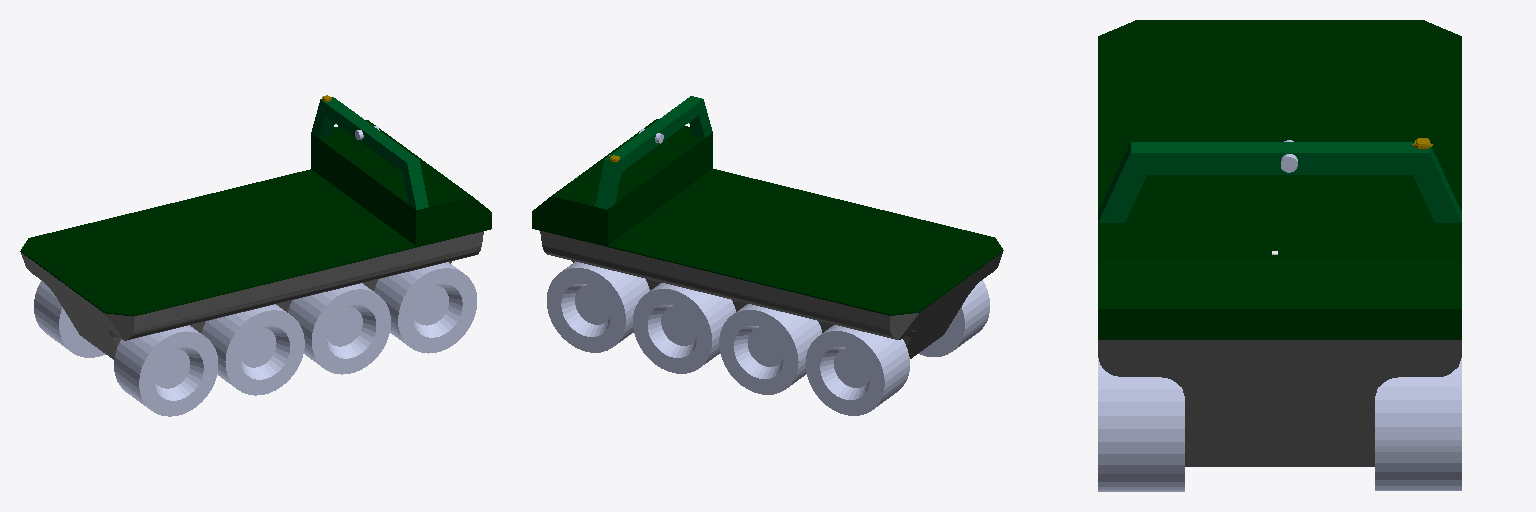
--- Render facts (derived) ---
Views: 3 orthographic renders of the robot side by side, from view 1: azimuth 30°, elevation 25°; view 2: azimuth 150°, elevation 25°; view 3: azimuth 270°, elevation 25°.
Robot: argo — 16 links, 15 joints (10 continuous, 1 prismatic, 4 fixed); root link base_link_argo; default pose: all joints at 0.
Visible links, largest first — view 1: top, base_link_argo, W1, W4, W3, W5, brdge, W8; view 2: top, base_link_argo, W8, W7, W6, W2, brdge, W1; view 3: top, base_link_argo, brdge, W3, W6.
Link boxes in pixels (x1,y1,x2,y2): top: [20, 120, 491, 316]; base_link_argo: [21, 231, 483, 359]; W1: [114, 325, 217, 416]; W4: [202, 304, 304, 395]; W3: [374, 262, 476, 353]; W5: [288, 283, 390, 374]; brdge: [311, 97, 428, 209]; W8: [34, 280, 105, 357]; top: [532, 119, 1003, 315]; base_link_argo: [540, 231, 1002, 358]; W8: [805, 325, 909, 415]; W7: [719, 304, 821, 394]; W6: [547, 261, 649, 352]; W2: [633, 283, 735, 373]; brdge: [595, 96, 712, 209]; W1: [918, 280, 989, 356]; top: [1098, 20, 1461, 339]; base_link_argo: [1098, 340, 1461, 466]; brdge: [1098, 142, 1461, 222]; W3: [1098, 358, 1184, 491]; W6: [1375, 358, 1461, 490].
Size in the robot's own frame: 3.01 by 1.46 by 1.46 metres.
15 mesh visuals loaded from 16 distinct referenced files (15 binary STL); not drawn: 1 (reference not matched to a file when rendering).

URDF robot description (argo):
<?xml version="1.0" encoding="utf-8"?>
<!-- This URDF was automatically created by SolidWorks to URDF Exporter! Originally created by Stephen Brawner ([email redacted]) 
     Commit Version: 1.6.0-4-g7f85cfe  Build Version: 1.6.7995.38578
     For more information, please see http://wiki.ros.org/sw_urdf_exporter -->
<robot
  name="argo">
  <link
    name="base_link_argo">
    <inertial>
      <origin
        xyz="0.035819 -5.7525E-07 0.081279"
        rpy="0 0 0" />
      <mass
        value="300.7" />
      <inertia
        ixx="250.5"
        ixy="8.5043E-06"
        ixz="11.589"
        iyy="1155.2"
        iyz="-0.00043656"
        izz="1288.7" />
    </inertial>
    <visual>
      <origin
        xyz="0 0 0"
        rpy="0 0 0" />
      <geometry>
        <mesh
          filename="package://argo/meshes/base_link.STL" />
      </geometry>
      <material
        name="">
        <color
          rgba="0.37647 0.37647 0.37647 1" />
      </material>
    </visual>
    <collision>
      <origin
        xyz="0 0 0"
        rpy="0 0 0" />
      <geometry>
        <mesh
          filename="package://argo/meshes/base_link.STL" />
      </geometry>
    </collision>
  </link>
  
  <gazebo reference="base_link_argo"> <!-- reference to a existing "link" -->
  <material>Gazebo/DarkGrey</material>
  </gazebo>
  
  <link
    name="top">
    <inertial>
      <origin
        xyz="1.29447232620919 -0.108911094870915 1.85161801499112E-16"
        rpy="0 0 0" />
      <mass
        value="20.196" />
      <inertia
        ixx="49.6170529044795"
        ixy="5.49755382314613"
        ixz="1.58830630084734E-14"
        iyy="137.267140906939"
        iyz="7.00820882302427E-15"
        izz="91.7318023780847" />
    </inertial>
    <visual>
      <origin
        xyz="0 0 0"
        rpy="0 0 0" />
      <geometry>
        <mesh
          filename="package://argo/meshes/top.STL" />
      </geometry>
      <material
        name="">
        <color
          rgba="0 0.219607843137255 0.0274509803921569 1" />
      </material>
    </visual>
    <collision>
      <origin
        xyz="0 0 0"
        rpy="0 0 0" />
      <geometry>
        <mesh
          filename="package://argo/meshes/top.STL" />
      </geometry>
    </collision>
  </link>
  
<gazebo reference="top">  
  <visual>  
    <material>  
      <ambient>0.2941 0.3255 0.1255 1.0</ambient>  
      <diffuse>0.2941 0.3255 0.1255 1.0</diffuse>  
      <specular>0.2941 0.3255 0.1255 1.0</specular>  
      <emissive>0.0 0.0 0.0 0.0</emissive>  
    </material>  
  </visual>  
</gazebo>

  <joint
    name="base_top"
    type="fixed">
    <origin
      xyz="-0.28859 0 0.34908"
      rpy="-1.5708 0 0" />
    <parent
      link="base_link_argo" />
    <child
      link="top" />
    <axis
      xyz="0 0 0" />
  </joint>
  
  <link
    name="brdge">
    <inertial>
      <origin
        xyz="1.04033991226211E-15 0.0629989167766 0.0499999999999999"
        rpy="0 0 0" />
      <mass
        value="16.9737091947536" />
      <inertia
        ixx="0.120706668200046"
        ixy="-7.71055909114614E-17"
        ixz="-5.38752534732447E-16"
        iyy="3.43735102494903"
        iyz="-4.74356800980588E-17"
        izz="3.52976817782449" />
    </inertial>
    <visual>
      <origin
        xyz="0 0 0"
        rpy="0 0 0" />
      <geometry>
        <mesh
          filename="package://argo/meshes/brdge.STL" />
      </geometry>
      <material
        name="">
        <color
          rgba="0 0.372549019607843 0.164705882352941 1" />
      </material>
    </visual>
    <collision>
      <origin
        xyz="0 0 0"
        rpy="0 0 0" />
      <geometry>
        <mesh
          filename="package://argo/meshes/brdge.STL" />
      </geometry>
    </collision>
  </link>
  
  <gazebo reference="brdge">  
  <visual>  
    <material>  
      <ambient>0.2941 0.3255 0.1255 1.0</ambient>  
      <diffuse>0.2941 0.3255 0.1255 1.0</diffuse>  
      <specular>0.2941 0.3255 0.1255 1.0</specular>  
      <emissive>0.0 0.0 0.0 0.0</emissive>  
    </material>  
  </visual>  
</gazebo>

  <joint
    name="top_brdge"
    type="fixed">
    <origin
      xyz="0.91641 0 0.77908"
      rpy="1.5708 0 1.5708" />
    <parent
      link="base_link_argo" />
    <child
      link="brdge" />
    <axis
      xyz="0 0 0" />
  </joint>
  <link
    name="W6">
    <inertial>
      <origin
        xyz="-2.22044604925031E-16 -5.55111512312578E-17 -0.162637423408204"
        rpy="0 0 0" />
      <mass
        value="5.205463824313" />
      <inertia
        ixx="3.66317923670982"
        ixy="-4.81006393304282E-33"
        ixz="-7.14647583675023E-18"
        iyy="3.66317923670982"
        iyz="-1.69045854944496E-32"
        izz="5.43484629444829" />
    </inertial>
    <visual>
      <origin
        xyz="0 0 0"
        rpy="0 0 0" />
      <geometry>
        <mesh
          filename="package://argo/meshes/W6.STL" />
      </geometry>
      <material
        name="">
        <color
          rgba="0.792156862745098 0.819607843137255 0.933333333333333 1" />
      </material>
    </visual>
  
   <collision>
      <origin
        xyz="0 0 -0.18"
        rpy="0 0 0" />
      <geometry>
             <cylinder radius="0.32" length="0.36"/>
      </geometry>
    </collision>

  </link>
  <joint
    name="jo_w6"
    type="continuous">
    <origin
      xyz="1.0864 0.38 -0.18342"
      rpy="1.5708 0 0" />
    <parent
      link="base_link_argo" />
    <child
      link="W6" />
    <axis
      xyz="0 0 1" />
  </joint>
  <link
    name="W2">
    <inertial>
      <origin
        xyz="-1.11022302462516E-16 -2.77555756156289E-17 -0.162637423408204"
        rpy="0 0 0" />
      <mass
        value="5.205463824313" />
      <inertia
        ixx="3.66317923670982"
        ixy="-4.80119742655688E-33"
        ixz="-7.14647583675023E-18"
        iyy="3.66317923670982"
        iyz="-2.40741243048404E-32"
        izz="5.43484629444829" />
    </inertial>
    <visual>
      <origin
        xyz="0 0 0"
        rpy="0 0 0" />
      <geometry>
        <mesh
          filename="package://argo/meshes/W2.STL" />
      </geometry>
      <material
        name="">
        <color
          rgba="0.792156862745098 0.819607843137255 0.933333333333333 1" />
      </material>
    </visual>
   
   <collision>
      <origin
        xyz="0 0 -0.18"
        rpy="0 0 0" />
      <geometry>
             <cylinder radius="0.32" length="0.36"/>
      </geometry>
    </collision>

  </link>
  <joint
    name="jo_w2"
    type="continuous">
    <origin
      xyz="0.39641 0.38 -0.18342"
      rpy="1.5708 0 0" />
    <parent
      link="base_link_argo" />
    <child
      link="W2" />
    <axis
      xyz="0 0 1" />
  </joint>
  <link
    name="W7">
    <inertial>
      <origin
        xyz="-5.55111512312578E-17 0 -0.162637423408204"
        rpy="0 0 0" />
      <mass
        value="5.205463824313" />
      <inertia
        ixx="3.66317923670982"
        ixy="8.74627649933776E-33"
        ixz="-5.29573736467459E-18"
        iyy="3.66317923670982"
        iyz="-2.40741243048404E-32"
        izz="5.43484629444829" />
    </inertial>
    <visual>
      <origin
        xyz="0 0 0"
        rpy="0 0 0" />
      <geometry>
        <mesh
          filename="package://argo/meshes/W7.STL" />
      </geometry>
      <material
        name="">
        <color
          rgba="0.792156862745098 0.819607843137255 0.933333333333333 1" />
      </material>
    </visual>


   <collision>
      <origin
        xyz="0 0 -0.18"
        rpy="0 0 0" />
      <geometry>
             <cylinder radius="0.32" length="0.36"/>
      </geometry>
    </collision>

  </link>
  <joint
    name="jo_w7"
    type="continuous">
    <origin
      xyz="-0.29359 0.38 -0.18342"
      rpy="1.5708 0 0" />
    <parent
      link="base_link_argo" />
    <child
      link="W7" />
    <axis
      xyz="0 0 1" />
  </joint>
  <link
    name="W8">
    <inertial>
      <origin
        xyz="1.11022302462516E-16 -5.55111512312578E-17 -0.162637423408204"
        rpy="0 0 0" />
      <mass
        value="5.205463824313" />
      <inertia
        ixx="3.66317923670982"
        ixy="-4.81006393304282E-33"
        ixz="-7.14647583675023E-18"
        iyy="3.66317923670982"
        iyz="-1.69045854944496E-32"
        izz="5.43484629444829" />
    </inertial>
    <visual>
      <origin
        xyz="0 0 0"
        rpy="0 0 0" />
      <geometry>
        <mesh
          filename="package://argo/meshes/W8.STL" />
      </geometry>
      <material
        name="">
        <color
          rgba="0.792156862745098 0.819607843137255 0.933333333333333 1" />
      </material>
    </visual>
   <collision>
      <origin
        xyz="0 0 -0.18"
        rpy="0 0 0" />
      <geometry>
             <cylinder radius="0.32" length="0.36"/>
      </geometry>
    </collision>
  </link>
  <joint
    name="jo_w8"
    type="continuous">
    <origin
      xyz="-0.98359 0.38 -0.18342"
      rpy="1.5708 0 0" />
    <parent
      link="base_link_argo" />
    <child
      link="W8" />
    <axis
      xyz="0 0 1" />
  </joint>
  <link
    name="W3">
    <inertial>
      <origin
        xyz="0 0 -0.162637423408204"
        rpy="0 0 0" />
      <mass
        value="5.205463824313" />
      <inertia
        ixx="3.66317923670982"
        ixy="-2.22044604925031E-16"
        ixz="-1.59843334544135E-16"
        iyy="3.66317923670982"
        iyz="-2.01732865994459E-17"
        izz="5.43484629444829" />
    </inertial>
    <visual>
      <origin
        xyz="0 0 0"
        rpy="0 0 0" />
      <geometry>
        <mesh
          filename="package://argo/meshes/W3.STL" />
      </geometry>
      <material
        name="">
        <color
          rgba="0.792156862745098 0.819607843137255 0.933333333333333 1" />
      </material>
    </visual>
   <collision>
      <origin
        xyz="0 0 -0.18"
        rpy="0 0 0" />
      <geometry>
             <cylinder radius="0.32" length="0.36"/>
      </geometry>
    </collision>
  </link>
  <joint
    name="jo_w3"
    type="continuous">
    <origin
      xyz="1.0864 -0.38 -0.18342"
      rpy="1.5708 0.39309 -3.1416" />
    <parent
      link="base_link_argo" />
    <child
      link="W3" />
    <axis
      xyz="0 0 1" />
  </joint>
  <link
    name="W5">
    <inertial>
      <origin
        xyz="5.55111512312578E-17 1.11022302462516E-16 -0.162637423408204"
        rpy="0 0 0" />
      <mass
        value="5.205463824313" />
      <inertia
        ixx="3.66317923670982"
        ixy="0"
        ixz="-8.74055653311197E-17"
        iyy="3.66317923670982"
        iyz="1.16509088889507E-17"
        izz="5.43484629444829" />
    </inertial>
    <visual>
      <origin
        xyz="0 0 0"
        rpy="0 0 0" />
      <geometry>
        <mesh
          filename="package://argo/meshes/W5.STL" />
      </geometry>
      <material
        name="">
        <color
          rgba="0.792156862745098 0.819607843137255 0.933333333333333 1" />
      </material>
    </visual>
   <collision>
      <origin
        xyz="0 0 -0.18"
        rpy="0 0 0" />
      <geometry>
             <cylinder radius="0.32" length="0.36"/>
      </geometry>
    </collision>
  </link>
  <joint
    name="jo_w5"
    type="continuous">
    <origin
      xyz="0.39641 -0.38 -0.18342"
      rpy="1.5708 0.39309 -3.1416" />
    <parent
      link="base_link_argo" />
    <child
      link="W5" />
    <axis
      xyz="0 0 1" />
  </joint>
  <link
    name="W4">
    <inertial>
      <origin
        xyz="-5.55111512312578E-17 -8.32667268468867E-17 -0.162637423408204"
        rpy="0 0 0" />
      <mass
        value="5.205463824313" />
      <inertia
        ixx="3.66317923670982"
        ixy="-2.22044604925031E-16"
        ixz="-1.59843334544135E-16"
        iyy="3.66317923670982"
        iyz="-2.01732865994467E-17"
        izz="5.43484629444829" />
    </inertial>
    <visual>
      <origin
        xyz="0 0 0"
        rpy="0 0 0" />
      <geometry>
        <mesh
          filename="package://argo/meshes/W4.STL" />
      </geometry>
      <material
        name="">
        <color
          rgba="0.792156862745098 0.819607843137255 0.933333333333333 1" />
      </material>
    </visual>
   <collision>
      <origin
        xyz="0 0 -0.18"
        rpy="0 0 0" />
      <geometry>
             <cylinder radius="0.32" length="0.36"/>
      </geometry>
    </collision>
  </link>
  <joint
    name="jo_w4"
    type="continuous">
    <origin
      xyz="-0.29359 -0.38 -0.18342"
      rpy="1.5708 0.39309 -3.1416" />
    <parent
      link="base_link_argo" />
    <child
      link="W4" />
    <axis
      xyz="0 0 1" />
  </joint>
  <link
    name="W1">
    <inertial>
      <origin
        xyz="0 -2.77555756156289E-17 -0.162637423408204"
        rpy="0 0 0" />
      <mass
        value="5.205463824313" />
      <inertia
        ixx="3.66317923670982"
        ixy="1.11022302462516E-16"
        ixz="-1.00847316269664E-17"
        iyy="3.66317923670982"
        iyz="2.17202693956188E-18"
        izz="5.43484629444829" />
    </inertial>
    <visual>
      <origin
        xyz="0 0 0"
        rpy="0 0 0" />
      <geometry>
        <mesh
          filename="package://argo/meshes/W1.STL" />
      </geometry>
      <material
        name="">
        <color
          rgba="0.792156862745098 0.819607843137255 0.933333333333333 1" />
      </material>
    </visual>
   <collision>
      <origin
        xyz="0 0 -0.18"
        rpy="0 0 0" />
      <geometry>
             <cylinder radius="0.32" length="0.36"/>
      </geometry>
    </collision>
  </link>
  <joint
    name="jo_w1"
    type="continuous">
    <origin
      xyz="-0.98359 -0.38 -0.18342"
      rpy="1.5708 0.39309 -3.1416" />
    <parent
      link="base_link_argo" />
    <child
      link="W1" />
    <axis
      xyz="0 0 1" />
  </joint>
  <link
    name="front_cam">
    <inertial>
      <origin
        xyz="0 0 -0.0150000000000001"
        rpy="0 0 0" />
      <mass
        value="0.115453530019425" />
      <inertia
        ixx="4.40166583199059E-05"
        ixy="0"
        ixz="-1.82174905908648E-20"
        iyy="4.40166583199058E-05"
        iyz="-1.61820021637503E-20"
        izz="7.07152871368979E-05" />
    </inertial>
    <visual>
      <origin
        xyz="0 0 0"
        rpy="0 0 0" />
      <geometry>
        <mesh
          filename="package://argo/meshes/front_cam.STL" />
      </geometry>
      <material
        name="">
        <color
          rgba="0.792156862745098 0.819607843137255 0.933333333333333 1" />
      </material>
    </visual>
    <collision>
      <origin
        xyz="0 0 0"
        rpy="0 0 0" />
      <geometry>
        <mesh
          filename="package://argo/meshes/front_cam.STL" />
      </geometry>
    </collision>
  </link>
  <joint
    name="front_cam_joint"
    type="continuous">
    <origin
      xyz="1.0164 0.037112 0.89408"
      rpy="-1.5708 1.179 1.5708" />
    <parent
      link="base_link_argo" />
    <child
      link="front_cam" />
    <axis
      xyz="0 0 1" />
  </joint>
  <link
    name="rear_cam">
    <inertial>
      <origin
        xyz="6.93889390390723E-18 0 0.015"
        rpy="0 0 0" />
      <mass
        value="0.115453530019425" />
      <inertia
        ixx="4.40166583199058E-05"
        ixy="-3.42235207630587E-36"
        ixz="7.53363137661562E-21"
        iyy="4.40166583199058E-05"
        iyz="2.44908279915527E-20"
        izz="7.07152871368979E-05" />
    </inertial>
    <visual>
      <origin
        xyz="0 0 0"
        rpy="0 0 0" />
      <geometry>
        <mesh
          filename="package://argo/meshes/rear_cam.STL" />
      </geometry>
      <material
        name="">
        <color
          rgba="0.792156862745098 0.819607843137255 0.933333333333333 1" />
      </material>
    </visual>
    <collision>
      <origin
        xyz="0 0 0"
        rpy="0 0 0" />
      <geometry>
        <mesh
          filename="package://argo/meshes/rear_cam.STL" />
      </geometry>
    </collision>
  </link>
  <joint
    name="rear_cam_joint"
    type="continuous">
    <origin
      xyz="0.88641 0.037112 0.89408"
      rpy="-1.5708 0 -1.5708" />
    <parent
      link="base_link_argo" />
    <child
      link="rear_cam" />
    <axis
      xyz="0 0 1" />
  </joint>
  <link
    name="rover_gp">
    <inertial>
      <origin
        xyz="0.0301308975542904 -2.63724109217378E-09 0.0102553549737826"
        rpy="0 0 0" />
      <mass
        value="0.0702100451640409" />
      <inertia
        ixx="2.1783864357282E-05"
        ixy="2.6914604596263E-11"
        ixz="-1.56979730664447E-09"
        iyy="2.02785504843164E-05"
        iyz="5.60595894600677E-12"
        izz="3.64793601068854E-05" />
    </inertial>
    <visual>
      <origin
        xyz="0 0 0"
        rpy="0 0 0" />
      <geometry>
        <mesh
          filename="package://argo/meshes/rover_gp.STL" />
      </geometry>
      <material
        name="">
        <color
          rgba="0.647058823529412 0.513725490196078 0 1" />
      </material>
    </visual>
    <collision>
      <origin
        xyz="0 0 0"
        rpy="0 0 0" />
      <geometry>
        <mesh
          filename="package://argo/meshes/rover_gp.STL" />
      </geometry>
    </collision>
  </link>
  <joint
    name="rover_gps_link"
    type="fixed">
    <origin
      xyz="0.91596 -0.57275 0.93408"
      rpy="0 0 0" />
    <parent
      link="base_link_argo" />
    <child
      link="rover_gp" />
    <axis
      xyz="1 0 0" />
    <limit
      lower="0"
      upper="0"
      effort="0"
      velocity="0" />
  </joint>
  <link
    name="base_gps">
    <inertial>
      <origin
        xyz="0.0301308975542902 -2.63724109217378E-09 0.0102553549737822"
        rpy="0 0 0" />
      <mass
        value="0.0702100451640406" />
      <inertia
        ixx="2.17838643572819E-05"
        ixy="2.69146046062537E-11"
        ixz="-1.56979730664984E-09"
        iyy="2.02785504843163E-05"
        iyz="5.60595895952449E-12"
        izz="3.64793601068852E-05" />
    </inertial>
    <visual>
      <origin
        xyz="0 0 0"
        rpy="0 0 0" />
      <geometry>
        <mesh
          filename="package://argo/meshes/base_gps.STL" />
      </geometry>
      <material
        name="">
        <color
          rgba="0.647058823529412 0.513725490196078 0 1" />
      </material>
    </visual>
    <collision>
      <origin
        xyz="0 0 0"
        rpy="0 0 0" />
      <geometry>
        <mesh
          filename="package://argo/meshes/base_gps.STL" />
      </geometry>
    </collision>
  </link>
  <joint
    name="bage_gps_link"
    type="fixed">
    <origin
      xyz="0.91956 0.57253 0.93408"
      rpy="0 0 0" />
    <parent
      link="base_link_argo" />
    <child
      link="base_gps" />
    <axis
      xyz="1 0 0" />
    <limit
      lower="0"
      upper="0"
      effort="0"
      velocity="0" />
  </joint>
  <link
    name="imu">
    <inertial>
      <origin
        xyz="0 0 0"
        rpy="0 0 0" />
      <mass
        value="0" />
      <inertia
        ixx="0"
        ixy="0"
        ixz="0"
        iyy="0"
        iyz="0"
        izz="0" />
    </inertial>
    <visual>
      <origin
        xyz="0 0 0"
        rpy="0 0 0" />
      <geometry>
        <mesh
          filename="package://argo/meshes/imu.STL" />
      </geometry>
      <material
        name="">
        <color
          rgba="1 1 1 1" />
      </material>
    </visual>
    <collision>
      <origin
        xyz="0 0 0"
        rpy="0 0 0" />
      <geometry>
        <mesh
          filename="package://argo/meshes/imu.STL" />
      </geometry>
    </collision>
  </link>
  <joint
    name="imu_joint"
    type="prismatic">
    <origin
      xyz="1.30635060914358 -0.0204979424251575 0.634949081448957"
      rpy="1.5707963267949 0 0" />
    <parent
      link="base_link_argo" />
    <child
      link="imu" />
    <axis
      xyz="1 0 0" />
    <limit
      lower="0"
      upper="0"
      effort="0"
      velocity="0" />
   </joint>
    <gazebo reference="W1">
    <kp>500</kp>
    <kd>100</kd>
    <mu>1</mu>
    <mu2>1</mu2>
    <fdir1>1 0 0</fdir1>
    <maxVel>1.0</maxVel>
    <minDepth>0.00</minDepth>

  </gazebo>
      
   <!--   <gazebo reference="W2">

    <kp>500</kp>
    <kd>100</kd>
    <mu>1</mu>
    <mu2>1</mu2>
    <fdir1>1 0 0</fdir1>
    <maxVel>1.0</maxVel>
    <minDepth>0.00</minDepth>
  </gazebo>
      <gazebo reference="W3">

     <kp>500</kp>
    <kd>100</kd>
    <mu>1</mu>
    <mu2>1</mu2>
    <fdir1>1 0 0</fdir1>
    <maxVel>1.0</maxVel>
    <minDepth>0.00</minDepth>
  </gazebo>
      <gazebo reference="W4">

    <kp>500</kp>
    <kd>100</kd>
    <mu>1</mu>
    <mu2>1</mu2>
    <fdir1>1 0 0</fdir1>
    <maxVel>1.0</maxVel>
    <minDepth>0.00</minDepth>
  </gazebo>
      <gazebo reference="W5">

    <kp>500</kp>
    <kd>100</kd>
    <mu>1</mu>
    <mu2>1</mu2>
    <fdir1>1 0 0</fdir1>
    <maxVel>1.0</maxVel>
    <minDepth>0.00</minDepth>
  </gazebo>
      <gazebo reference="W6">

    <kp>500</kp>
    <kd>100</kd>
    <mu>1</mu>
    <mu2>1</mu2>
    <fdir1>1 0 0</fdir1>
    <maxVel>1.0</maxVel>
    <minDepth>0.00</minDepth>
  </gazebo>
      <gazebo reference="W7">

    <kp>500</kp>
    <kd>100</kd>
    <mu>1</mu>
    <mu2>1</mu2>
    <fdir1>1 0 0</fdir1>
    <maxVel>1.0</maxVel>
    <minDepth>0.00</minDepth>
  </gazebo>
      <gazebo reference="W8">

    <kp>500</kp>
    <kd>100</kd>
    <mu>1</mu>
    <mu2>1</mu2>
    <fdir1>1 0 0</fdir1>
    <maxVel>1.0</maxVel>
    <minDepth>0.00</minDepth>
  </gazebo>-->

  <gazebo reference="W1"> <!-- reference to a existing "link" -->
  <material>Gazebo/Black </material>
  </gazebo>
  
  <gazebo reference="W2"> <!-- reference to a existing "link" -->
  <material>Gazebo/Black </material>
  </gazebo>

  <gazebo reference="W3"> <!-- reference to a existing "link" -->
  <material>Gazebo/Black </material>
  </gazebo>

  <gazebo reference="W4"> <!-- reference to a existing "link" -->
  <material>Gazebo/Black </material>
  </gazebo>

  <gazebo reference="W5"> <!-- reference to a existing "link" -->
  <material>Gazebo/Black </material>
  </gazebo>

  <gazebo reference="W6"> <!-- reference to a existing "link" -->
  <material>Gazebo/Black </material>
  </gazebo>

  <gazebo reference="W7"> <!-- reference to a existing "link" -->
  <material>Gazebo/Black </material>
  </gazebo>
  
  <gazebo reference="W8"> <!-- reference to a existing "link" -->
  <material>Gazebo/Black </material>
  </gazebo>
  
  <gazebo reference="base_gps">
    <sensor name="gps_sensor" type="gps">
        <always_on>true</always_on>
        <update_rate>8.0</update_rate>
        <plugin name="base_gps_node" filename="libgazebo_ros_gps_sensor.so">
                <remapping>/base_gps_node/out:=/ARGJ801/base/gps/fix</remapping>
                <remapping>/base_gps_node/vel:=/ARGJ801/base/gps/vel</remapping>
            <frame_name>base_gps</frame_name>
        </plugin>
    </sensor>
    <material>Gazebo/Grey</material>
</gazebo>
  <gazebo reference="rover_gp">
    <sensor name="gps_sensor" type="gps">
    <position_sensing> 
    	<horizontal>
    		<noise type="gaussian">
    			<mean>0.000196</mean>
    		</noise> 
    	</horizontal>
    </position_sensing> 
        <always_on>true</always_on>
        <update_rate>8.0</update_rate>
        <plugin name="rover_gps_node" filename="libgazebo_ros_gps_sensor.so">
                <remapping>/rover_gps_node/out:=/ARGJ801/rover/gps/fix</remapping>
                <remapping>/rover_gps_node/vel:=/ARGJ801/rover/gps/vel</remapping>
            <frame_name>rover_gp</frame_name>
        </plugin>
    </sensor>
    <material>Gazebo/Grey</material>
</gazebo>

  <gazebo reference="front_cam">
    <sensor type="camera" name="front_camera">
      <update_rate>1</update_rate>
      <camera name="head">
        <horizontal_fov>1.2</horizontal_fov>
        <image>
          <width>420</width>
          <height>240</height>
          <format>R8G8B8</format>
        </image>
        <clip>
          <near>0.02</near>
          <far>300</far>
        </clip>
        <distortion>
          <k1>0.0</k1>
          <k2>0.0</k2>
          <k3>0.0</k3>
          <p1>0.0</p1>
          <p2>0.0</p2>
        </distortion>
      </camera>
      <plugin name="front_cam_controller" filename="libgazebo_ros_camera.so">
        <ros>
          <namespace>ARGJ801</namespace>
          <argument>image_raw:=custom</argument>
          <argument>camera_info:=custom_info</argument>
          <update_rate>25</update_rate>
        </ros>
        <camera_name>front_camera</camera_name>
        <frame_name>front_cam</frame_name>
        <hack_baseline>0.07</hack_baseline>
      </plugin>
    </sensor>
  </gazebo>
  
  <gazebo reference="base_link_argo">
    <sensor name="br_imu" type="imu">
        <always_on>true</always_on>
        <update_rate>100</update_rate>
        <imu>
          <angular_velocity>
            <x>
              <noise type="gaussian">
                <mean>0.0</mean>
                <stddev>2e-4</stddev>
              </noise>
            </x>
            <y>
              <noise type="gaussian">
                <mean>0.0</mean>
                <stddev>2e-4</stddev>
              </noise>
            </y>
            <z>
              <noise type="gaussian">
                <mean>0.0</mean>
                <stddev>2e-4</stddev>
              </noise>
            </z>
          </angular_velocity>
          <linear_acceleration>
            <x>
              <noise type="gaussian">
                <mean>0.0</mean>
                <stddev>1.7e-2</stddev>
              </noise>
            </x>
            <y>
              <noise type="gaussian">
                <mean>0.0</mean>
                <stddev>1.7e-2</stddev>
              </noise>
            </y>
            <z>
              <noise type="gaussian">
                <mean>0.0</mean>
                <stddev>1.7e-2</stddev>
              </noise>
            </z>
          </linear_acceleration>
        </imu>
        <plugin name="bytes_imu" filename="libgazebo_ros_imu_sensor_mod.so">
            <ros>
                <namespace>imu</namespace>
                <remapping>~/out:=data</remapping>
            </ros>
            <initial_orientation_as_reference>false</initial_orientation_as_reference>
        </plugin>
    </sensor>
</gazebo>

  <gazebo>
        <plugin name='diff_drive' filename='libgazebo_ros_diff_drive_mod.so'>

        <ros>
          <namespace>/ARGJ801</namespace>
          <!--<remapping>cmd_vel:=cmd_demo</remapping>-->
          <remapping>odom:=odom_demo</remapping>
        </ros>

        <!-- wheels -->
        <num_wheel_pairs>4</num_wheel_pairs>
        <left_joint>jo_w3</left_joint>
        <left_joint>jo_w5</left_joint>
        <left_joint>jo_w4</left_joint>
        <left_joint>jo_w1</left_joint>
        
        <right_joint>jo_w6</right_joint>
        <right_joint>jo_w2</right_joint>
        <right_joint>jo_w7</right_joint>
        <right_joint>jo_w8</right_joint>
        <!-- kinematics -->
        <wheel_separation>1.35</wheel_separation>
        <wheel_diameter>0.64</wheel_diameter>

        <!-- limits -->
        <max_wheel_torque>500</max_wheel_torque>
        <max_wheel_acceleration>2.0</max_wheel_acceleration>

        <!-- output -->
        <publish_odom>true</publish_odom>
        <publish_odom_tf>false</publish_odom_tf>
        <publish_wheel_tf>false</publish_wheel_tf>

        <odometry_frame>odom</odometry_frame>
        <robot_base_frame>base_link_argo</robot_base_frame>

      </plugin>
        </gazebo>
</robot>
